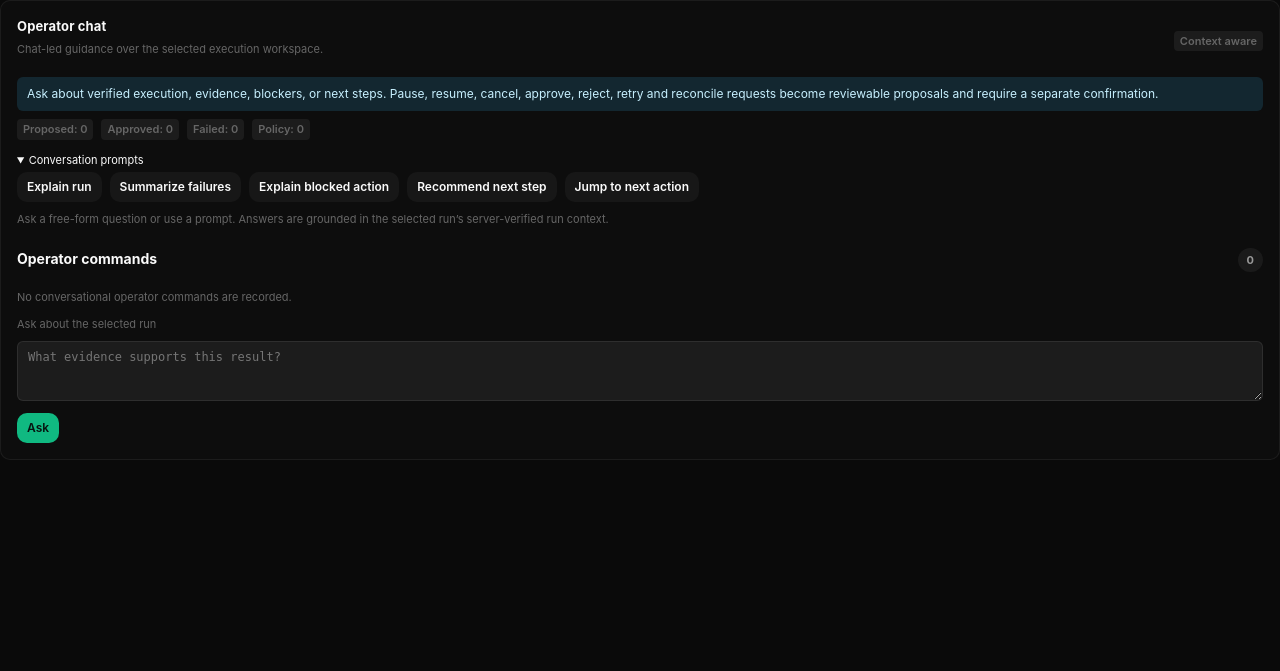
Test case: OperatorConsoleChat › renders structured evidence with a server-scoped source link
Type "Show the evidence records" into the text box labelled "Ask about the selected run" at (640, 371), box [17,341,1263,401]
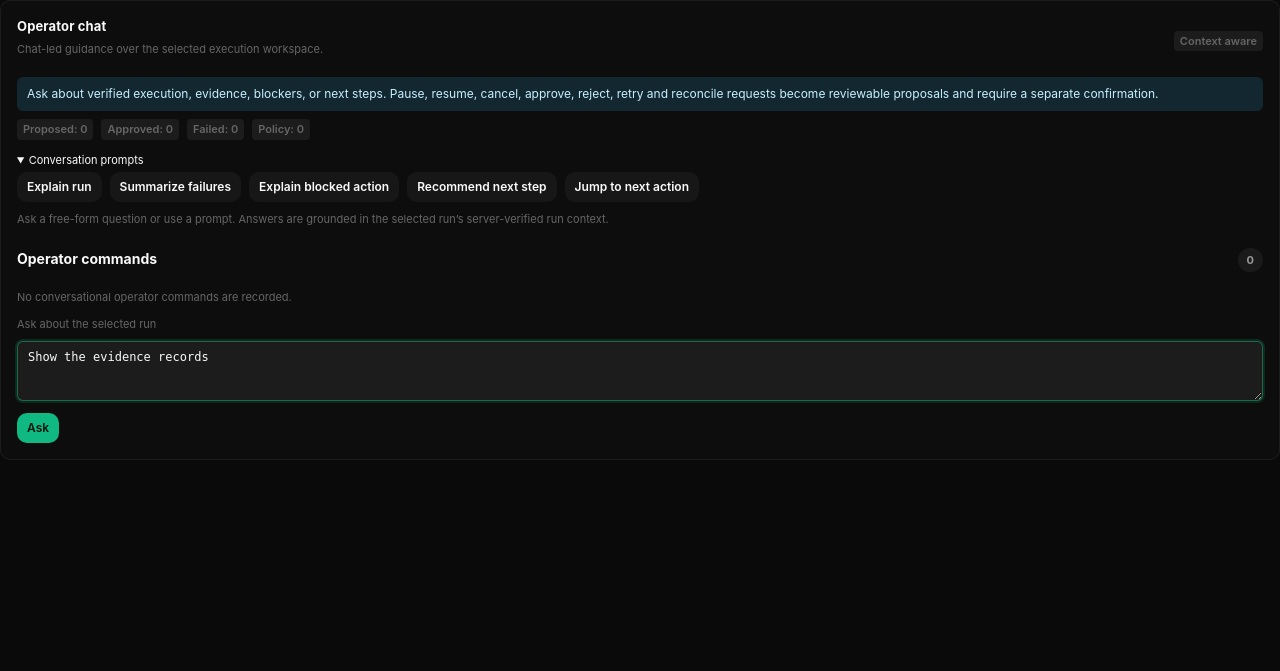
Click the button "Ask" at (38, 428), box [17,413,59,443]
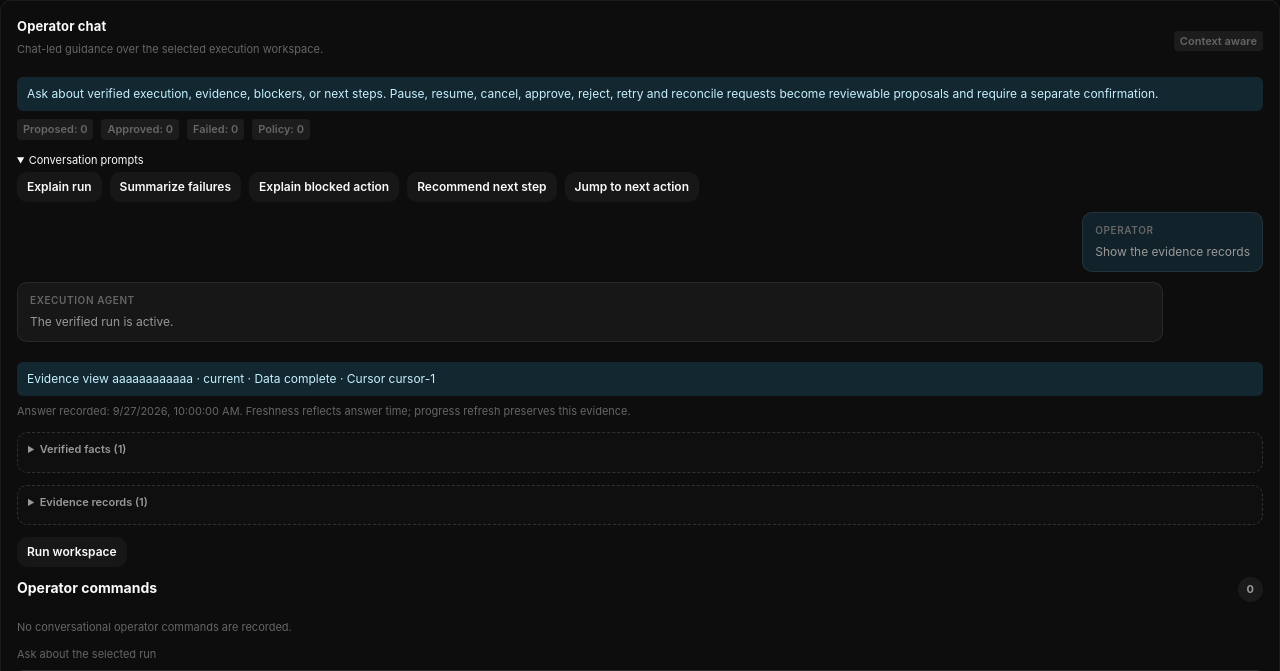
Click the heading "Evidence records (1)" at (94, 502), box [40,495,148,509]
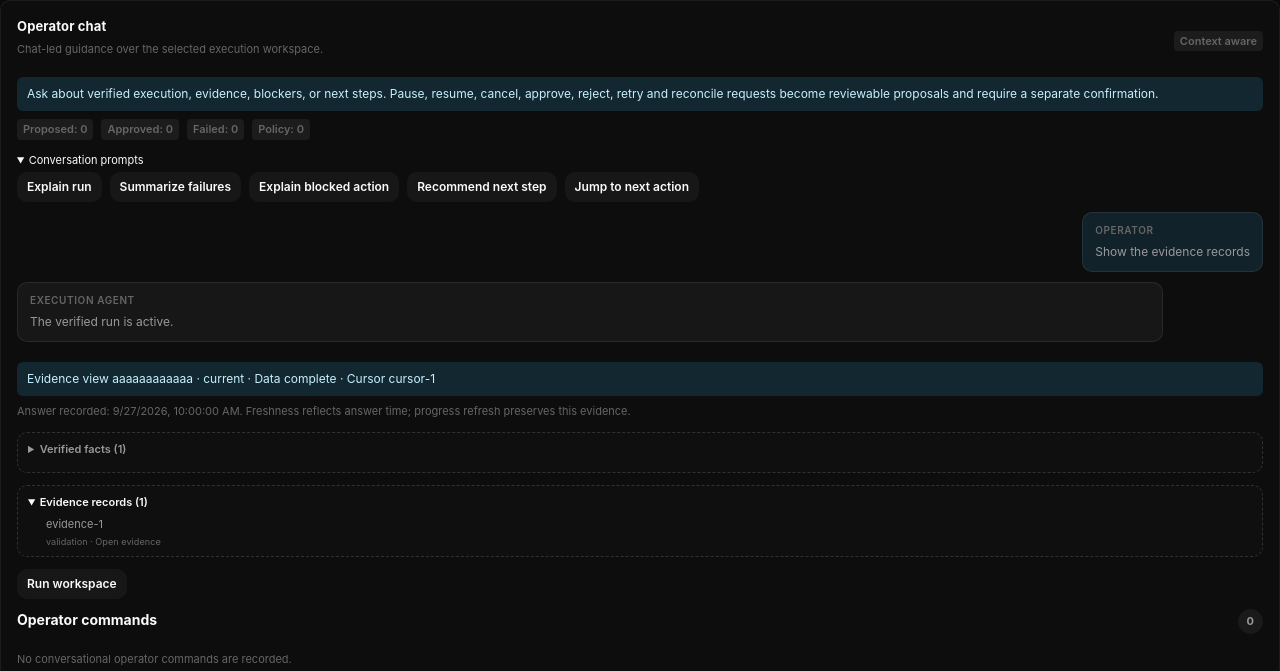
Result: the text "evidence-1" is shown at [46,517,103,531]
